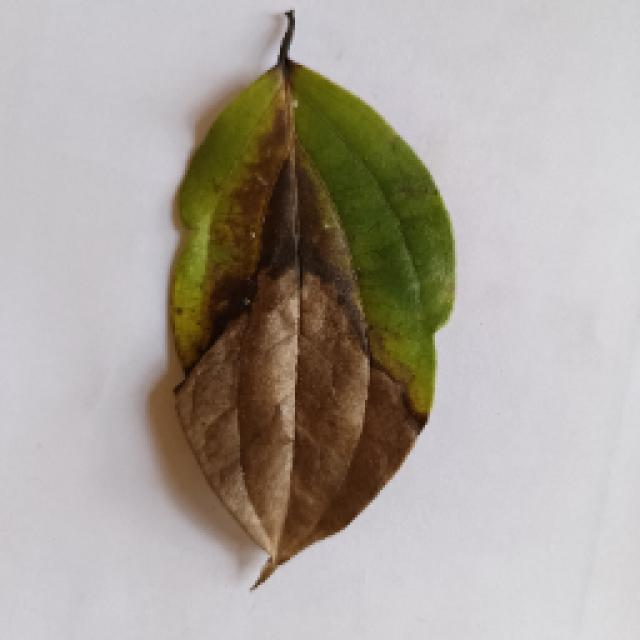footrot: (130, 18, 522, 592)
